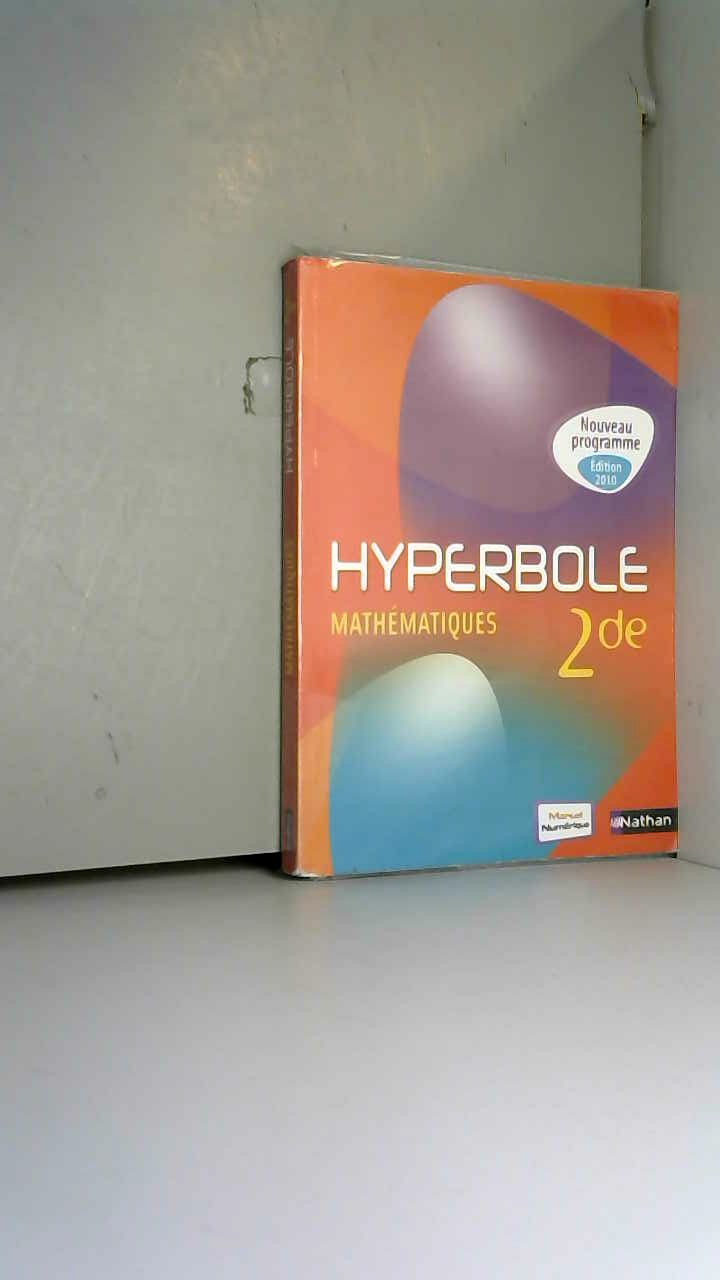book: (250, 220, 720, 913)
